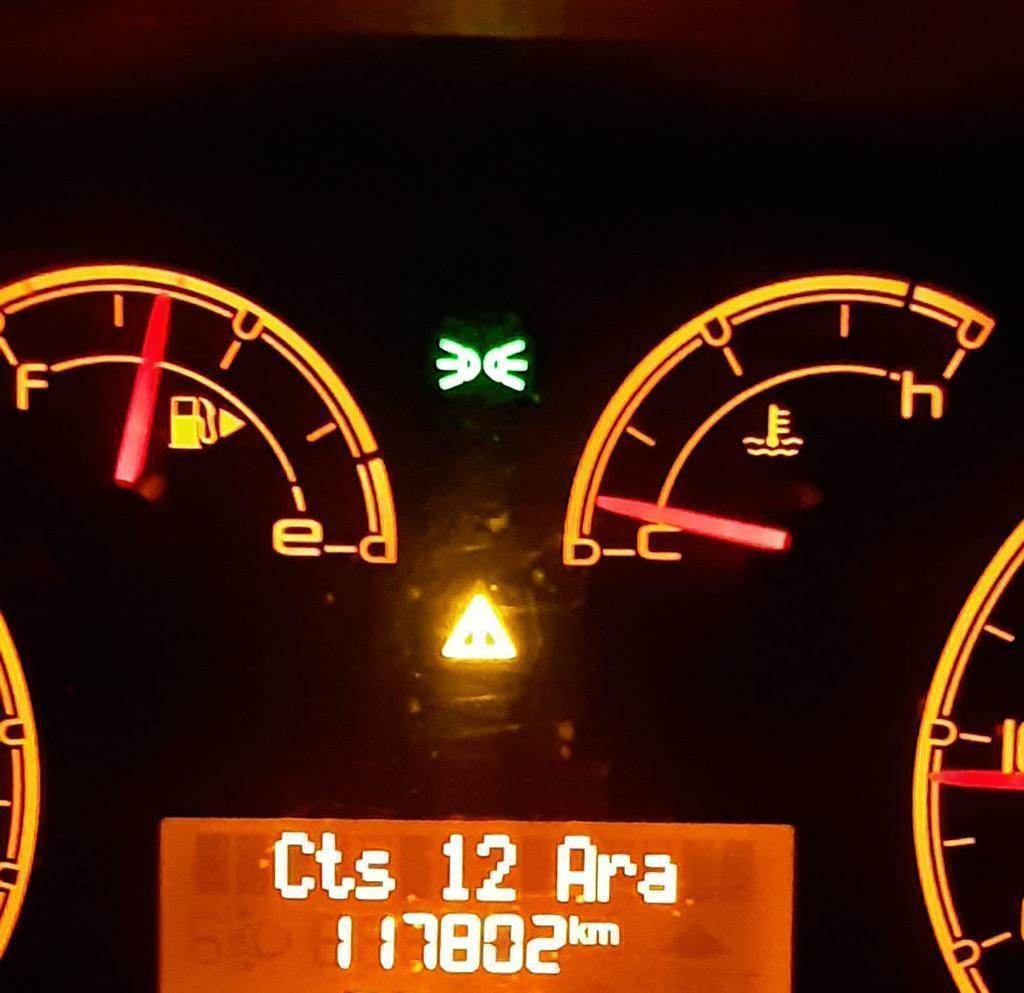0: (484, 910, 524, 975)
1: (439, 829, 470, 902), (377, 908, 396, 972), (334, 908, 353, 972)
2: (473, 832, 519, 903), (526, 910, 567, 975)
7: (400, 910, 439, 972)
8: (440, 911, 481, 974)
X: (272, 828, 315, 901), (315, 830, 356, 901), (557, 833, 597, 903), (637, 850, 679, 906), (356, 845, 396, 903), (597, 850, 636, 902), (589, 919, 624, 946), (568, 912, 589, 947)
odometer: (151, 803, 803, 991)
